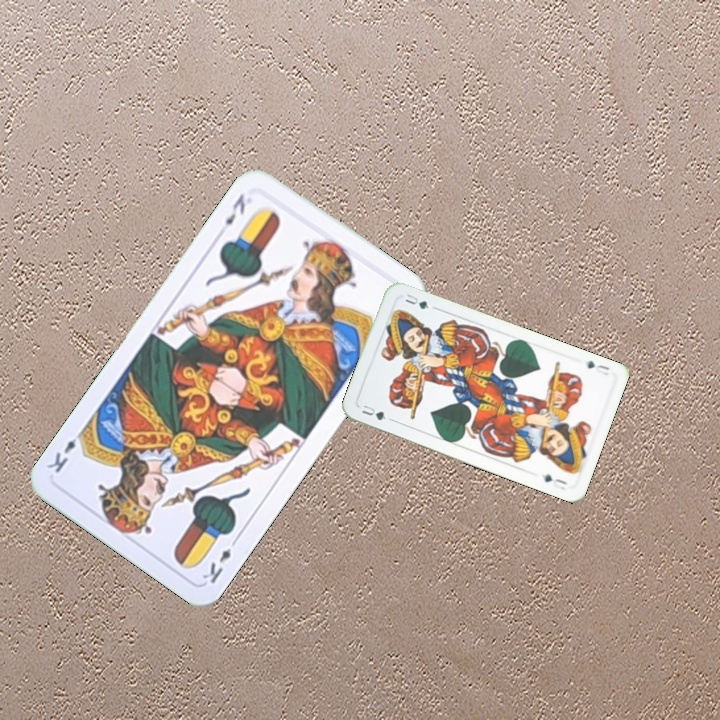EK: (198, 533, 242, 586), (220, 189, 248, 228)
GU: (358, 401, 395, 424), (583, 356, 612, 378)
